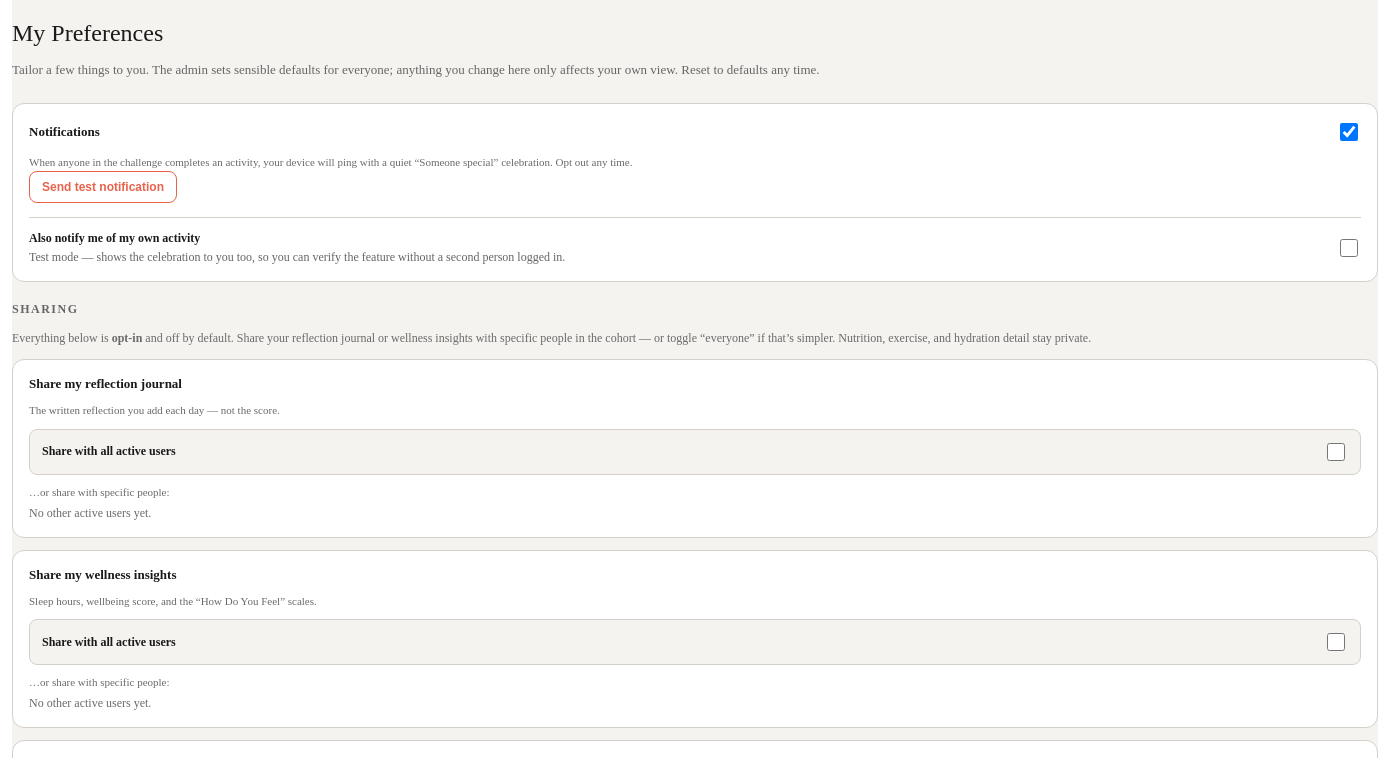
Test: MyPreferences › test notification button › shows a failure hint when showNotification resolves false
Click the button "Send test notification". click: (103, 187)
box: top-left (29, 171), bottom-right (177, 203)
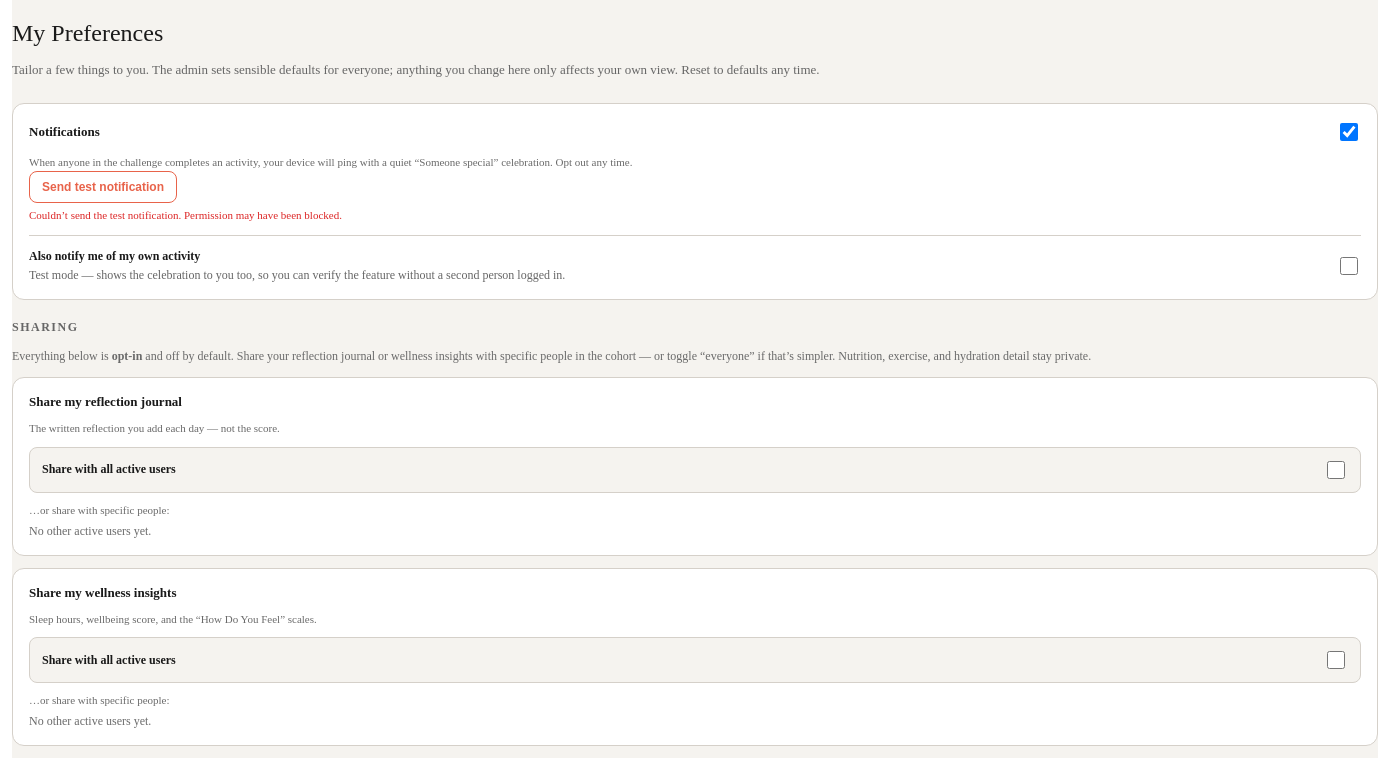
Result: the text "Couldn’t send the test notification. Permission may have been blocked." is shown at top-left (29, 209), bottom-right (342, 221)
